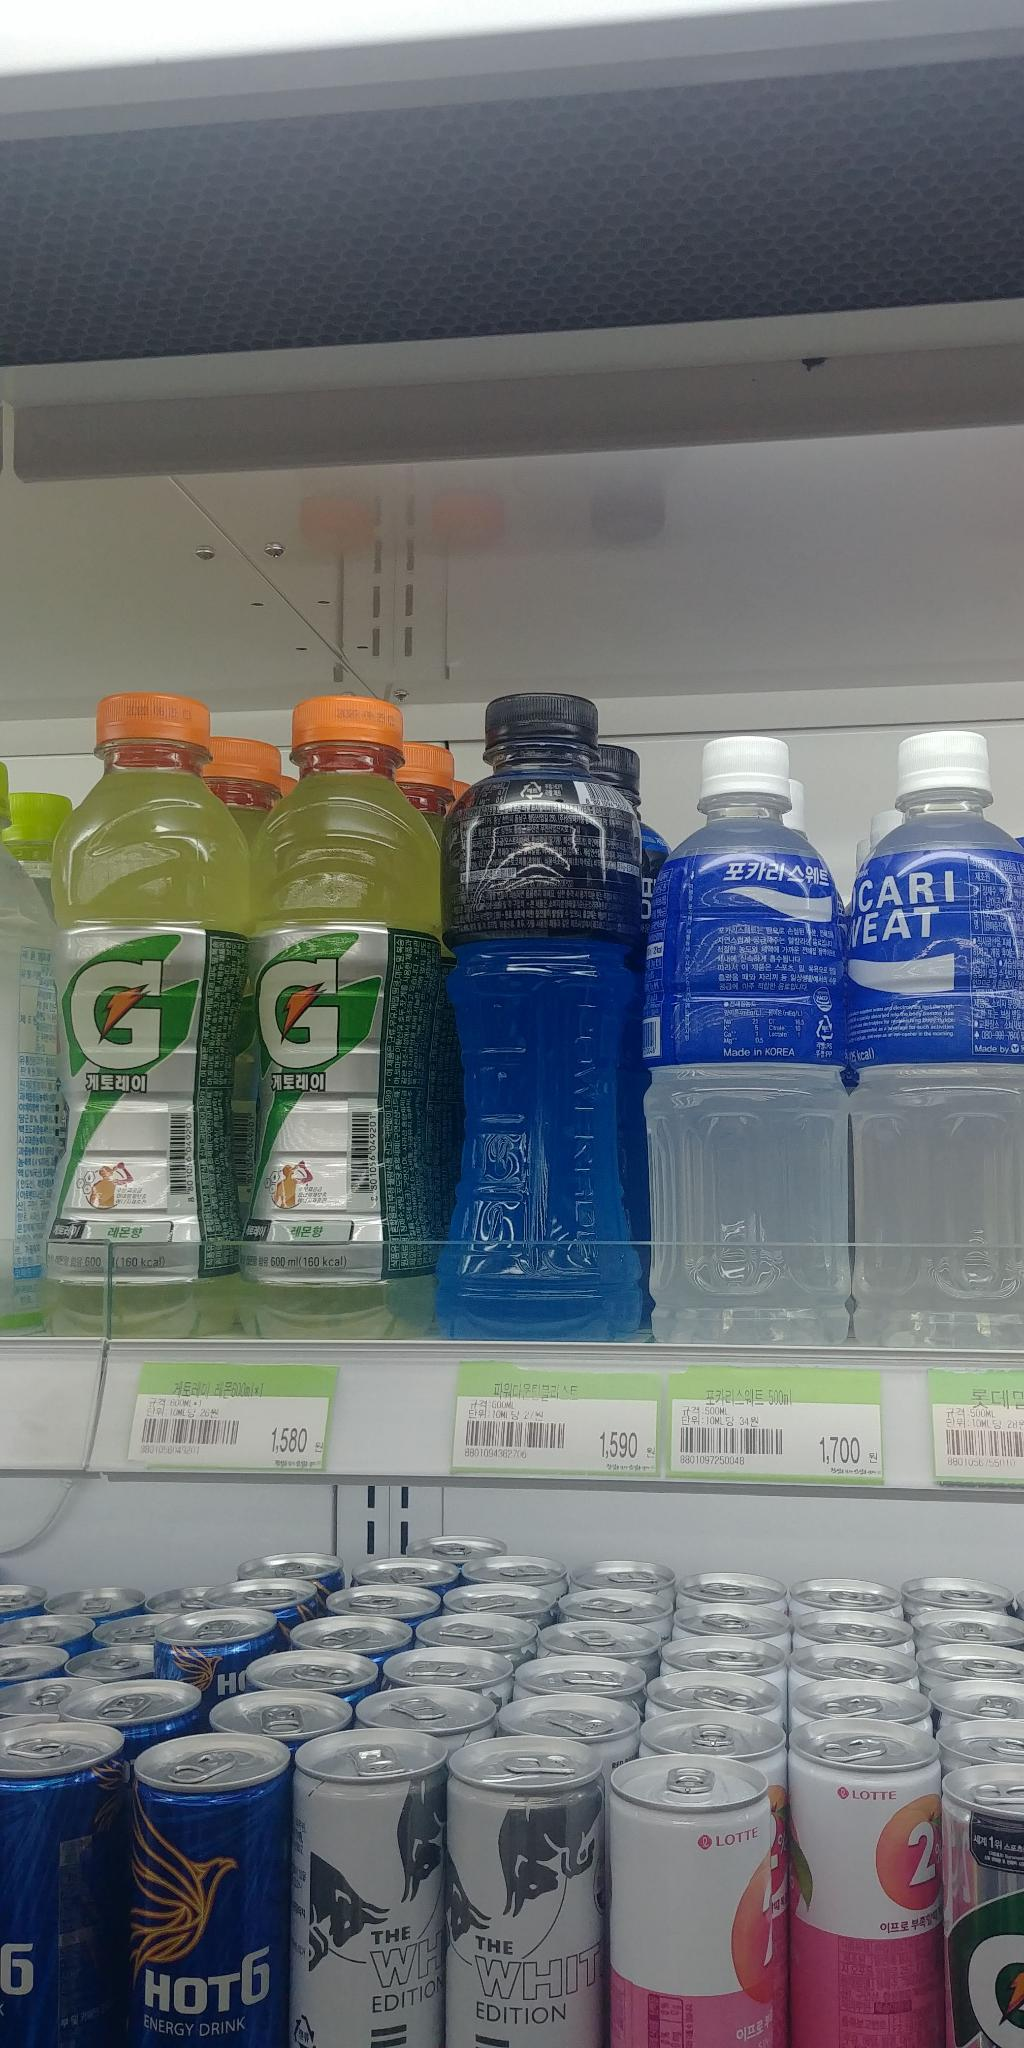gatorade_lemon: (40, 677, 259, 1353), (236, 687, 448, 1373)
hotsix_org: (131, 1725, 296, 2047)
pocarisweat: (645, 717, 869, 1353), (825, 721, 1023, 1361)
powerade_mountainblast: (436, 680, 648, 1353)
